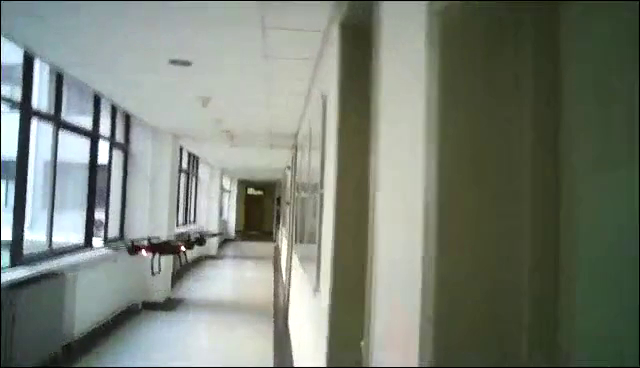drone: (101, 228, 227, 275)
